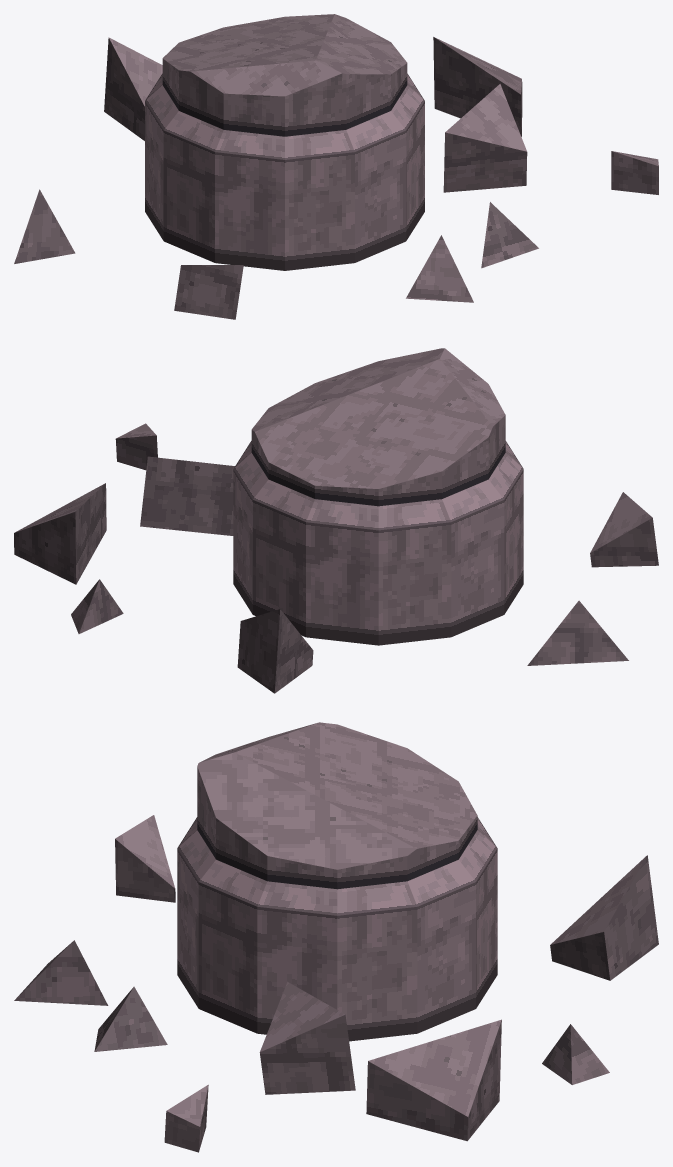
File: saeule_z3_bruch.glb
3 renders of one model, top to bottom at view 1: azimuth 30°, elevation 25°; view 2: azimuth 150°, elevation 25°; view 3: azimuth 270°, elevation 25°, orthographic. The views are drawn at different scales.
Visible parts, largest first — view 1: saeule_z3_bruch; view 2: saeule_z3_bruch; view 3: saeule_z3_bruch.
Part boxes in pixels (x1=…): saeule_z3_bruch: x1=14, y1=14, x2=658, y2=319; saeule_z3_bruch: x1=14, y1=348, x2=658, y2=693; saeule_z3_bruch: x1=14, y1=722, x2=658, y2=1152.
Size of the model in its own units: 2.35 by 0.7503 by 2.01.
1 material, 1 textured.
